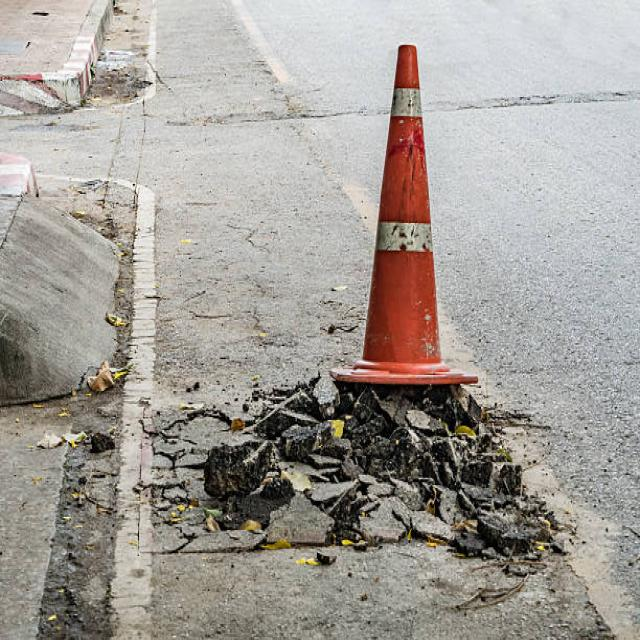Traffic Cone: (321, 26, 508, 423)
